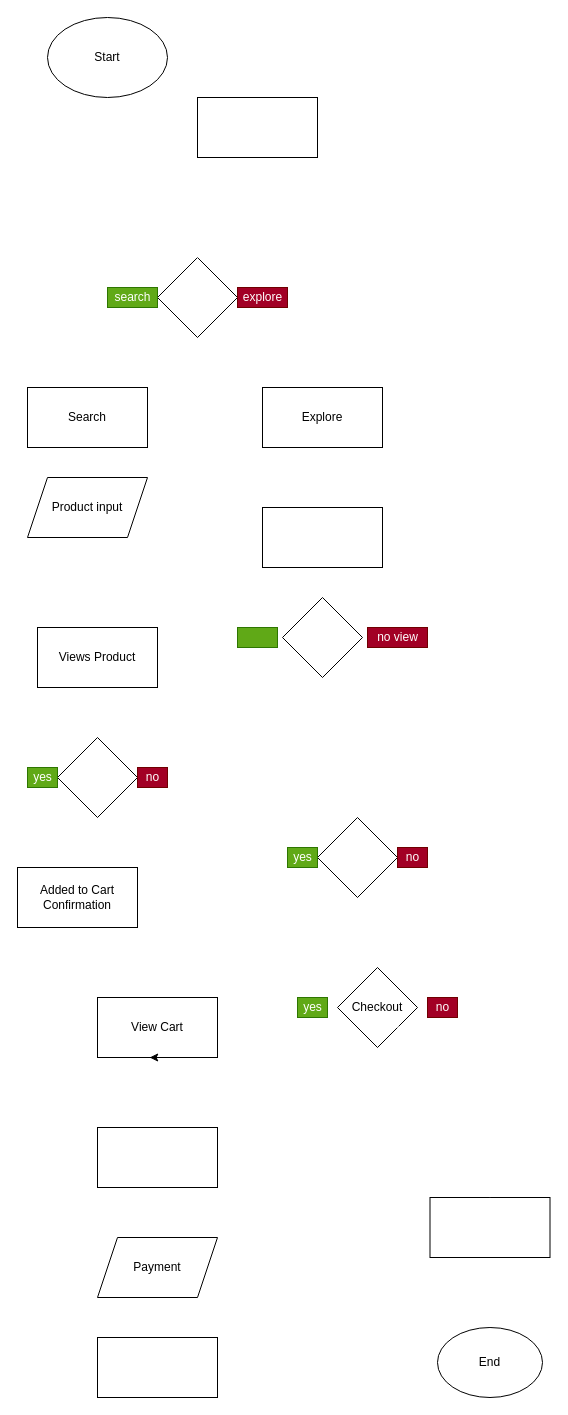
The diagram is 568 pixels wide and 1415 high, and some of its shapes have lost their labels. The shapes that lost their labels are listed below. From the top down, each one's box as (x1, y1, x2, y2) in pixels, then its label:
(196, 96, 318, 158): User Enter Website
(156, 256, 238, 338): Search/Exp
(262, 506, 382, 568): Look at Products
(236, 626, 278, 648): view
(282, 596, 362, 678): View Product
(56, 736, 138, 818): Add to Cart
(316, 816, 398, 898): Continue Shopping
(96, 1126, 218, 1188): View Payment
(429, 1196, 550, 1258): Leave Website
(96, 1336, 218, 1398): Order Confirmation / Email
